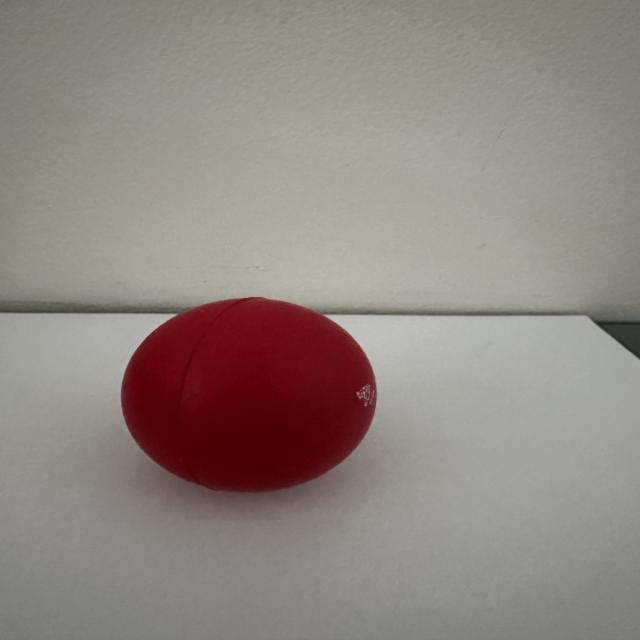red_ball: (114, 282, 393, 512)
